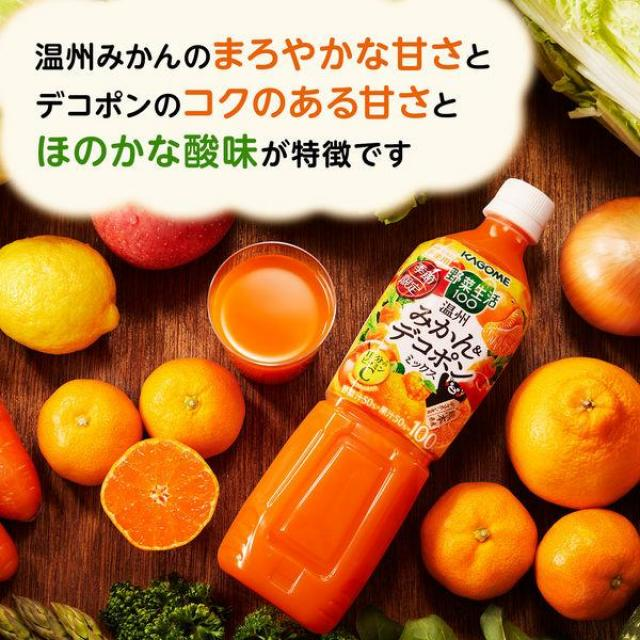juice: (217, 178, 555, 637)
